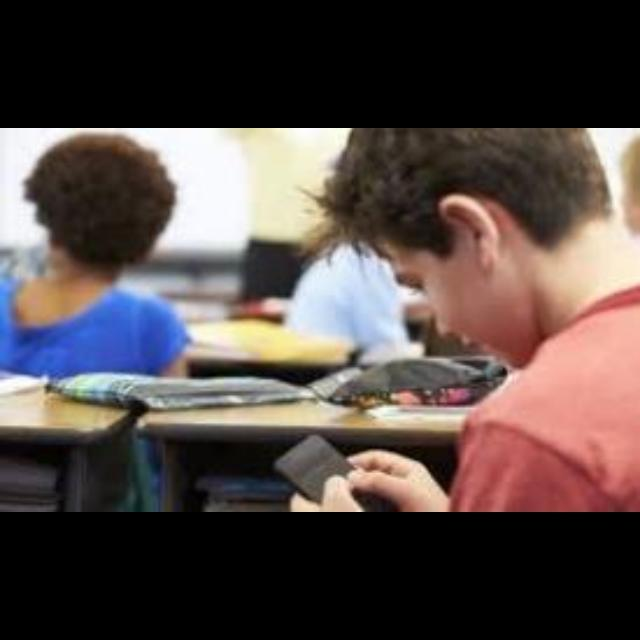Phone: (274, 432, 396, 512)
